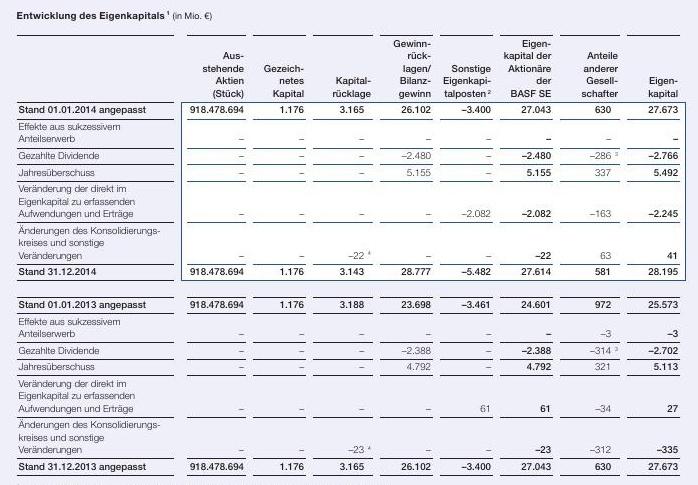table: (0, 0, 698, 485)
